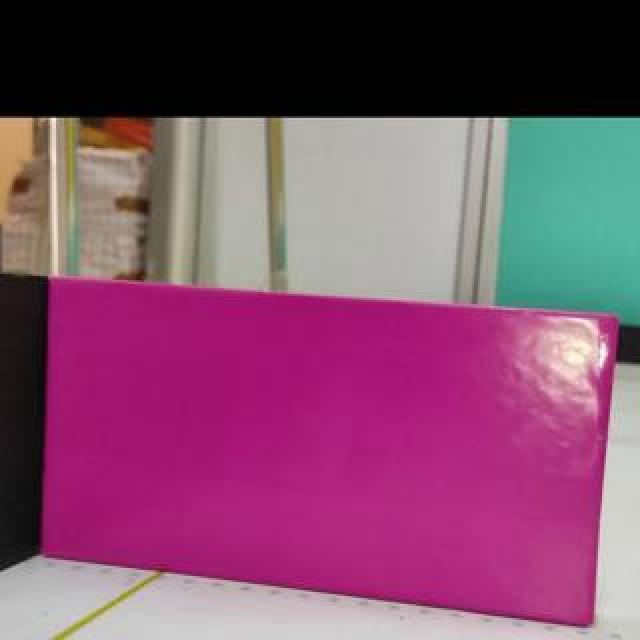xparking: (43, 274, 619, 625)
